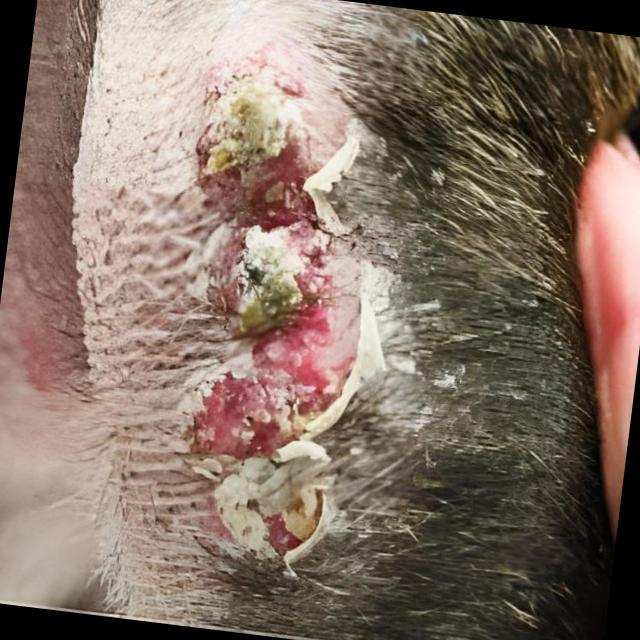allergic dermatitis: (134, 34, 393, 595)
